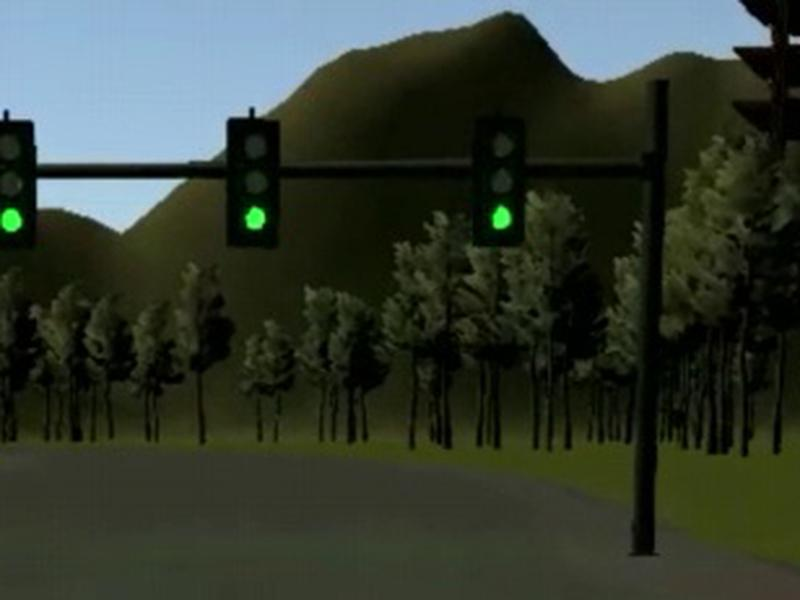Green: (226, 117, 282, 251), (472, 117, 527, 247), (1, 119, 36, 248)
